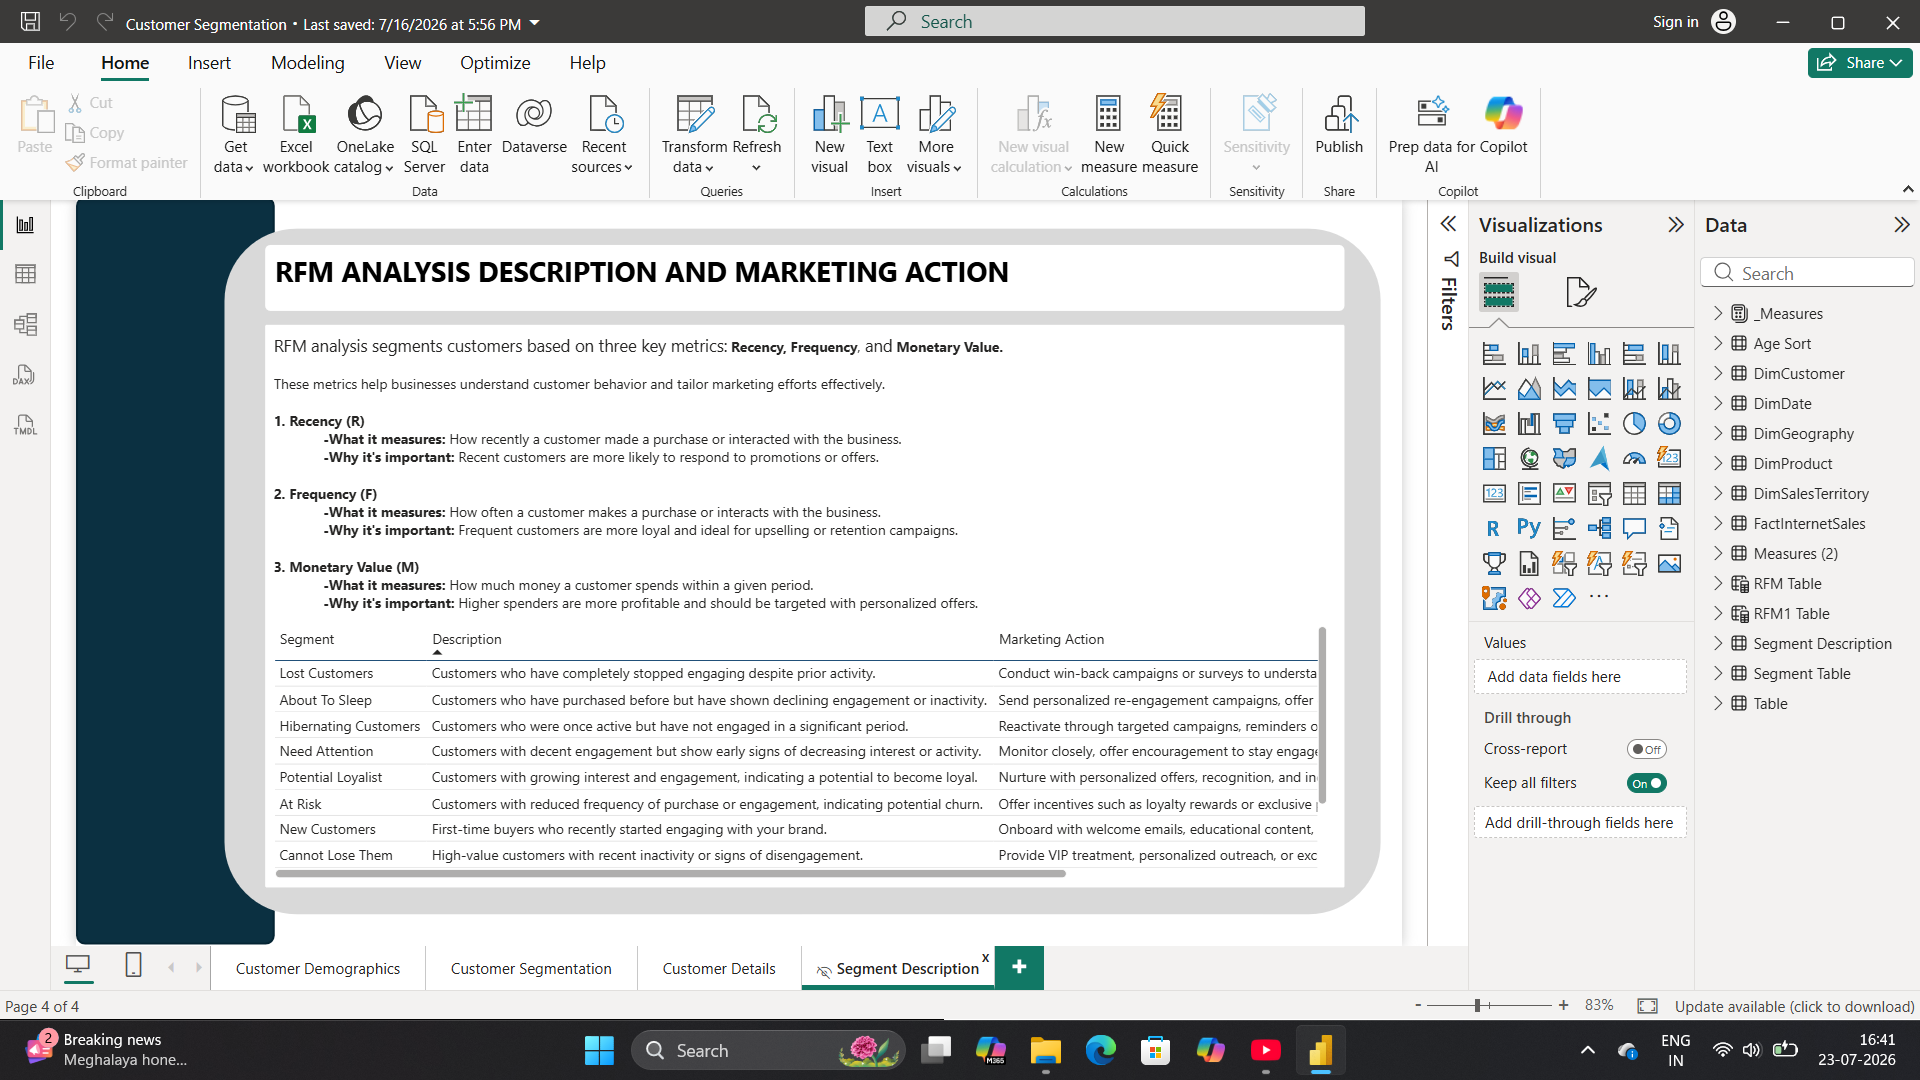

Layout of this report page (visuals, bound fields, positions):
{"tool":"powerbi","page":{"name":"Segment Description","canvas":[1280,720],"ordinal":3},"visuals":[{"type":"textbox","box":[185.8,124.3,1036.3,282.3],"z":0},{"type":"tableEx","fields":{"Values":["Segment Description.Segment","Segment Description.Description","Segment Description.Marketing Action"]},"box":[185.8,406.6,1026.7,253.4],"z":1000},{"type":"textbox","box":[187,45.8,1025.5,57.9],"z":2000}]}

Visuals, with their boxes on the page's 1280x720 design canvas (x1, y1, x2, y2). These are canvas units, not pixel positions in the 1920x1080 screenshot, which may show the page scaled, cropped or inside an application window:
textbox: box(186, 124, 1222, 407)
tableEx - Segment Description.Segment x Segment Description.Description: box(186, 407, 1212, 660)
textbox: box(187, 46, 1212, 104)
